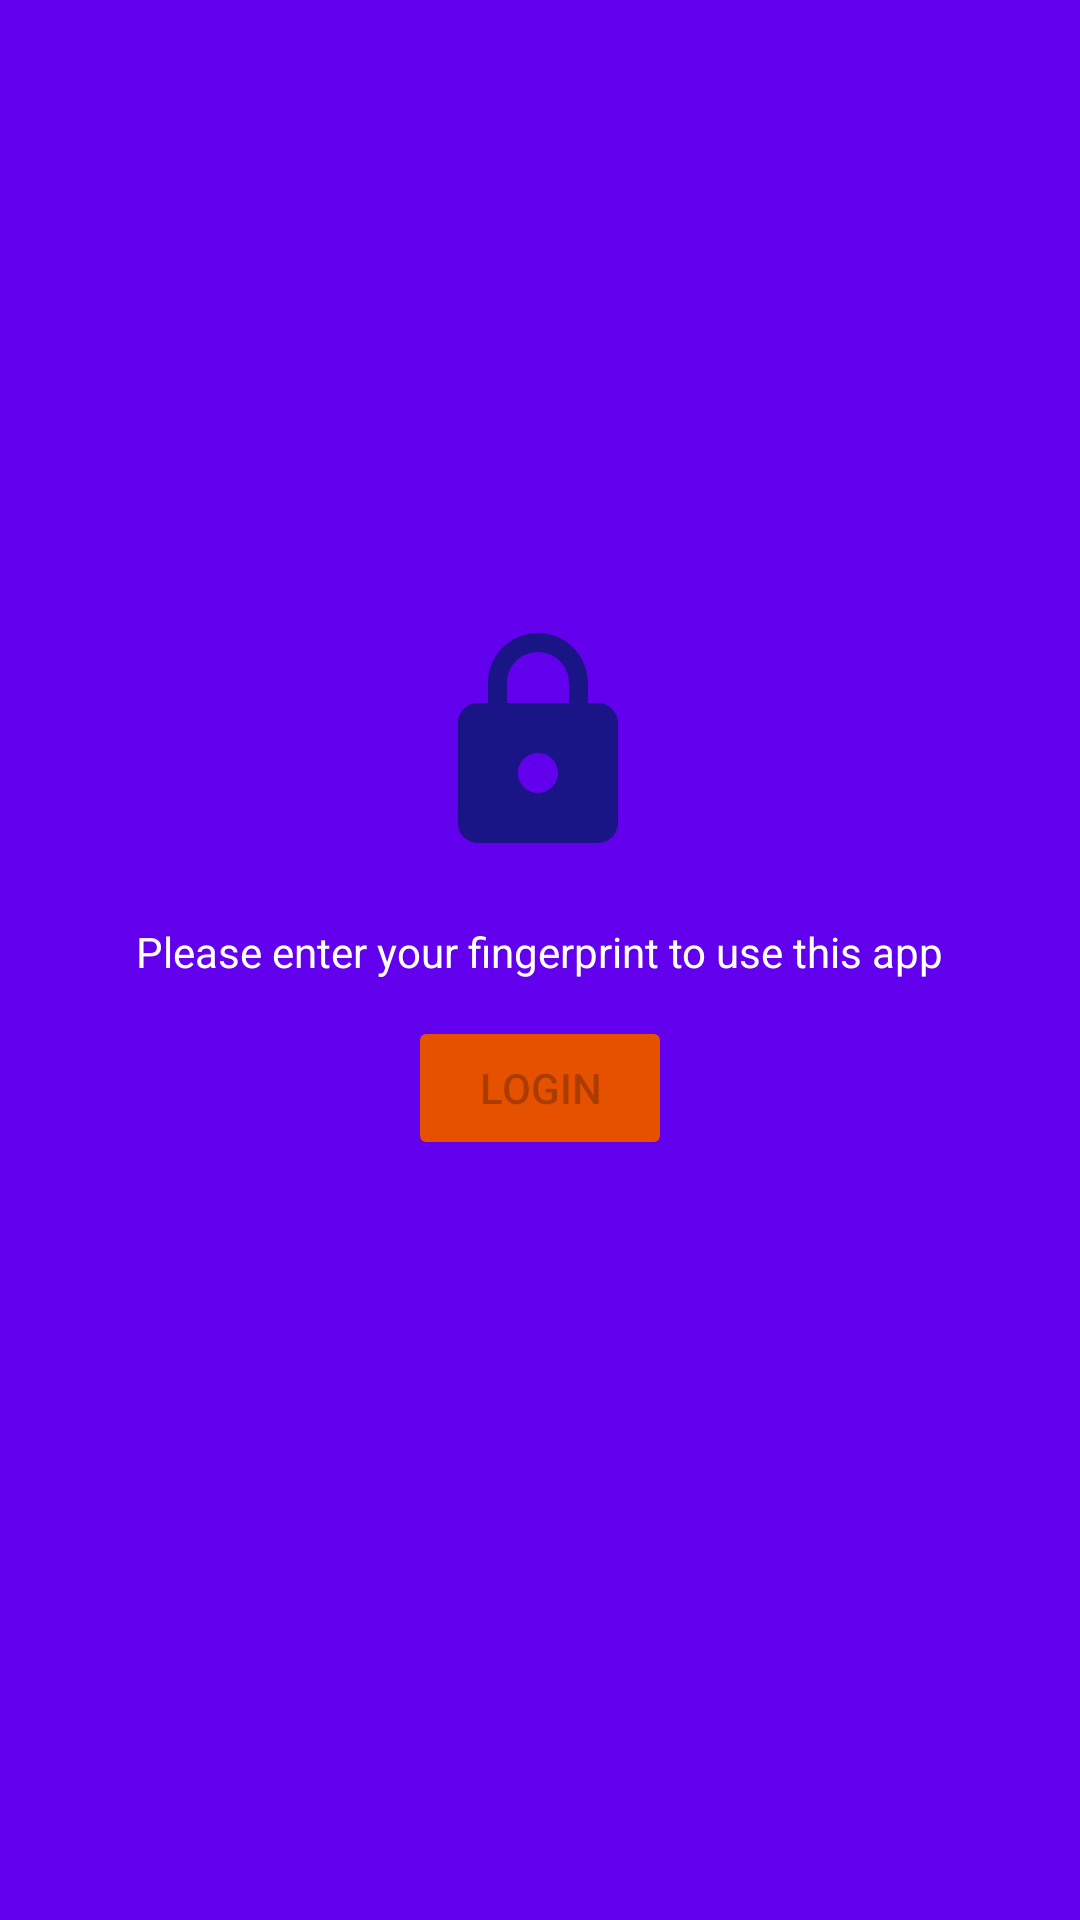

Icon click points for this 1080x1920 phone screenshot, format point (x, y):
fingerprint lock icon: point (538, 738)
